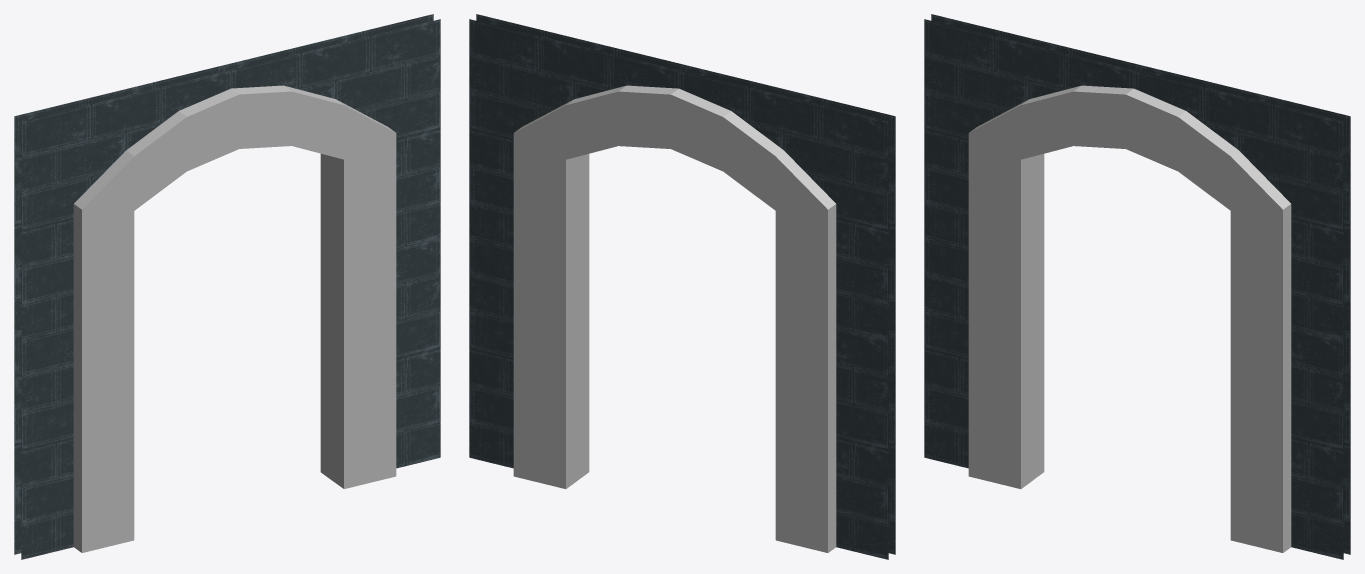
File: ArchFull.fbx
3 views of the same model, side by side, from view 1: azimuth 30°, elevation 25°; view 2: azimuth 150°, elevation 25°; view 3: azimuth 330°, elevation 25° (orthographic).
Parts seen in each view (by area): view 1: Plane.003; view 2: Plane.003; view 3: Plane.003.
Part boxes in pixels (left/top/right/bottom): Plane.003: left=14, top=14, right=440, bottom=559; Plane.003: left=469, top=14, right=895, bottom=559; Plane.003: left=924, top=14, right=1350, bottom=559.
Size of the model in its own units: 400 by 400 by 38.63.
